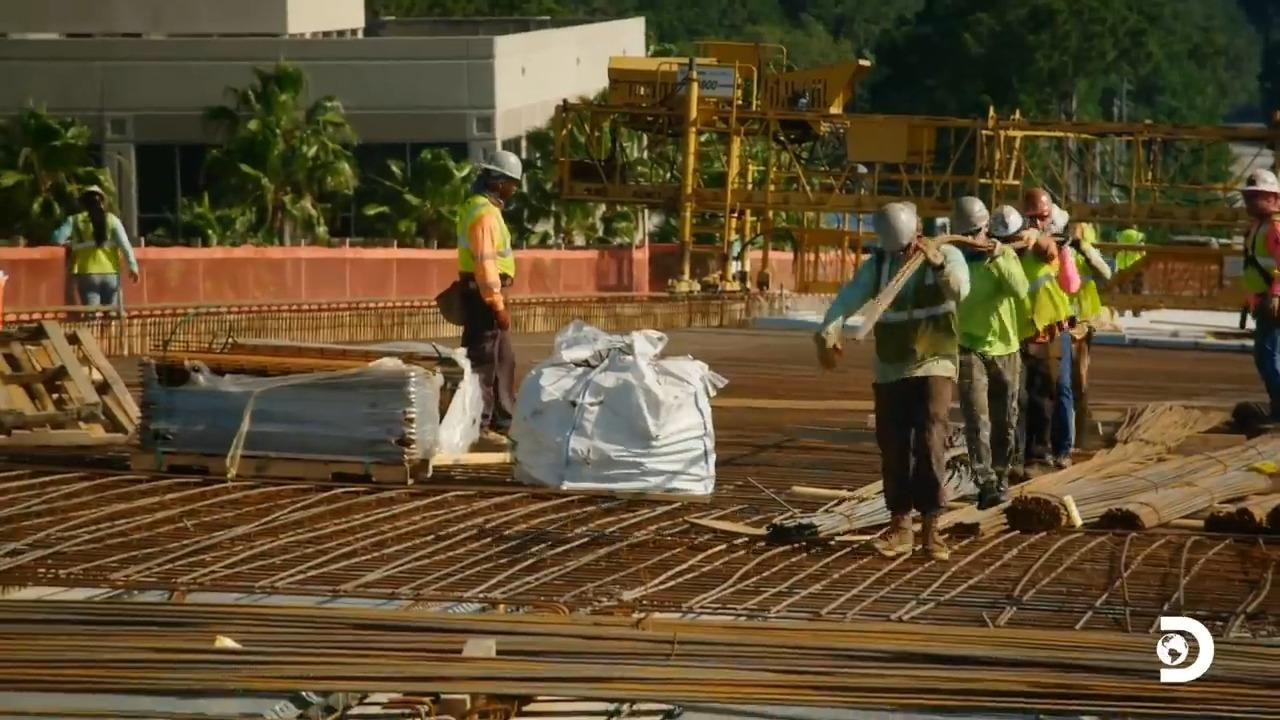Gloves: (810, 331, 850, 372), (492, 305, 519, 335), (914, 241, 941, 267), (124, 264, 147, 284)
Helmet: (872, 201, 918, 252), (949, 195, 989, 235), (477, 149, 522, 182), (988, 204, 1023, 238), (1237, 168, 1279, 193), (1022, 187, 1051, 218), (81, 184, 106, 199)
Person: (813, 200, 972, 562), (455, 149, 522, 437), (1237, 168, 1279, 421), (66, 183, 139, 317)
Safety Boot: (916, 532, 965, 560), (867, 524, 914, 553), (978, 471, 1011, 502), (472, 427, 509, 448), (1049, 455, 1075, 473)
Safety Vest: (873, 266, 949, 362), (958, 275, 1011, 347), (462, 208, 506, 275), (73, 221, 119, 276), (1248, 226, 1280, 299), (1025, 263, 1052, 329), (1063, 267, 1093, 318)
